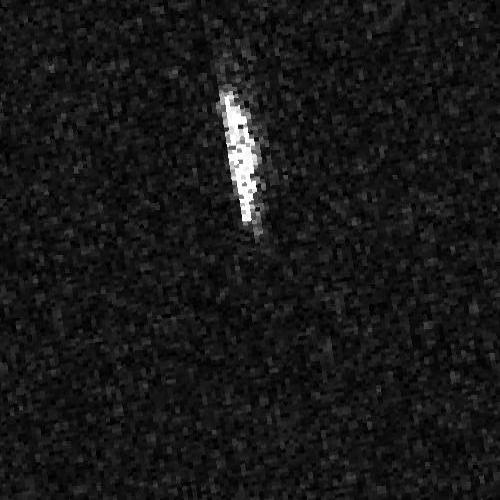ship: (219, 89, 259, 227)
